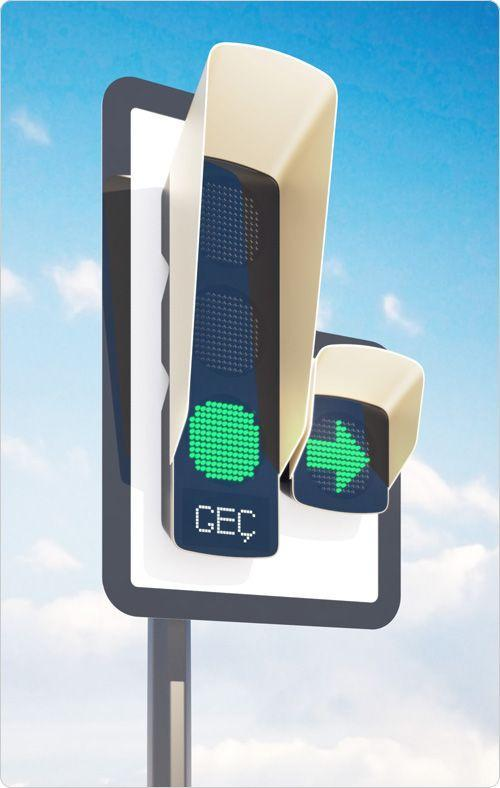green: (56, 54, 470, 644)
